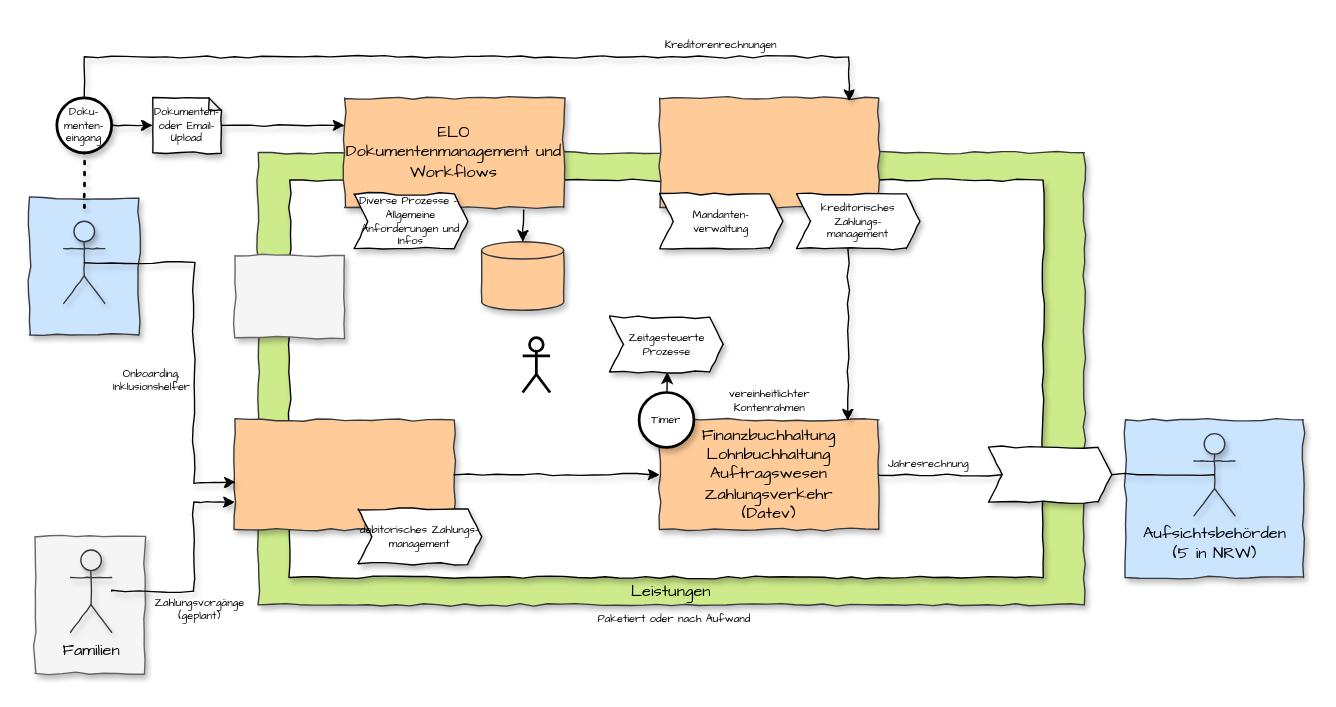
The diagram is 1336 pixels wide and 707 high, and some of its shapes have lost their labels. Here are the shapes that lost their labels. From the top down, the centre of each, then its label:
point (770, 154): Unternehmen Online (Datev)
point (85, 263): Schule
point (523, 277): Revisions-sichere Ablage
point (290, 298): Arbeitssicherheit "as a Service" (geplant)
point (536, 364): Servicenetzwerk (Genossenschaft)
point (345, 476): Triargos Procurat! Debitorenmanagement
point (1051, 476): Antragswesen (Bevollmächtiger oder Berater)
